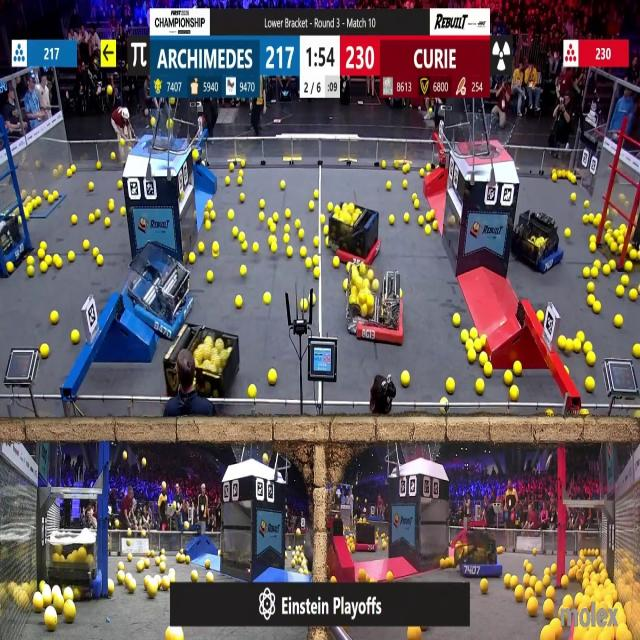ball_airborne: (107, 87, 113, 97), (266, 452, 272, 462), (192, 150, 198, 160), (162, 482, 168, 491), (142, 458, 148, 466), (150, 116, 155, 125), (170, 119, 173, 127), (119, 140, 123, 146)
ball_ground: (44, 612, 56, 632), (65, 602, 76, 622), (526, 599, 538, 616), (31, 592, 42, 610), (543, 601, 553, 619), (446, 378, 456, 394), (409, 627, 422, 639), (514, 360, 523, 376), (167, 628, 180, 639), (586, 378, 596, 392), (147, 585, 157, 599), (400, 372, 409, 387), (40, 344, 49, 358), (71, 331, 80, 345), (587, 352, 596, 366), (516, 587, 524, 602), (572, 341, 582, 353), (64, 589, 74, 601), (128, 580, 137, 593), (511, 386, 519, 400), (248, 384, 256, 398), (504, 372, 512, 386), (270, 371, 278, 385), (478, 380, 486, 394), (49, 312, 58, 324), (510, 574, 519, 586), (563, 596, 572, 608), (484, 363, 492, 376), (534, 584, 542, 597), (482, 580, 489, 594), (633, 344, 640, 358), (236, 295, 244, 307), (616, 315, 624, 327), (545, 588, 553, 600), (467, 351, 475, 363), (55, 256, 63, 268), (558, 338, 566, 350), (358, 569, 366, 581), (164, 580, 172, 592), (566, 340, 574, 352), (73, 589, 81, 601), (454, 314, 461, 327), (206, 571, 214, 582), (588, 282, 596, 293), (68, 251, 76, 262), (630, 289, 638, 300), (190, 570, 198, 581), (585, 342, 593, 353), (602, 266, 610, 277), (618, 285, 625, 297), (240, 266, 247, 278), (108, 582, 115, 594), (584, 268, 591, 280), (474, 340, 481, 352), (504, 574, 511, 586), (588, 294, 596, 304), (386, 570, 394, 580), (594, 214, 602, 224), (466, 341, 474, 351), (116, 572, 124, 582), (265, 292, 272, 303), (594, 303, 601, 314), (480, 352, 487, 363), (28, 267, 35, 278), (40, 263, 47, 274), (188, 252, 195, 263), (524, 574, 531, 585), (212, 242, 219, 253), (38, 249, 45, 260), (461, 329, 468, 340), (562, 575, 568, 587), (335, 256, 341, 268), (82, 241, 89, 251), (469, 328, 476, 338), (286, 247, 293, 257), (626, 263, 633, 273), (28, 255, 35, 265), (388, 214, 395, 224), (233, 229, 240, 239), (576, 330, 583, 340), (526, 588, 533, 598), (299, 247, 305, 258), (207, 272, 213, 283), (424, 223, 430, 234), (210, 211, 216, 222), (108, 201, 114, 212), (441, 558, 447, 569), (610, 242, 616, 253), (593, 259, 601, 267), (622, 276, 629, 285), (564, 230, 571, 239), (93, 247, 100, 256), (284, 209, 291, 218), (298, 230, 304, 240), (592, 269, 598, 279), (403, 213, 409, 223), (98, 255, 104, 265), (419, 215, 425, 225), (537, 312, 543, 322), (242, 242, 248, 252), (199, 243, 205, 253), (314, 269, 320, 279), (227, 210, 233, 220), (272, 243, 278, 253), (6, 264, 12, 274), (239, 232, 245, 242), (307, 258, 313, 268), (252, 243, 258, 253), (138, 562, 144, 572), (45, 254, 51, 264), (610, 262, 616, 272), (582, 215, 588, 225), (543, 574, 549, 584), (426, 212, 432, 222), (631, 250, 637, 260), (524, 561, 530, 571), (579, 410, 586, 418), (304, 301, 309, 312), (482, 336, 487, 347), (259, 200, 265, 209), (90, 214, 96, 223), (313, 256, 319, 265), (258, 212, 264, 221), (314, 189, 320, 198), (314, 238, 320, 247), (270, 223, 276, 232), (273, 213, 279, 222), (309, 202, 315, 211), (414, 201, 420, 210), (96, 210, 102, 219), (161, 563, 167, 572), (205, 220, 211, 229), (205, 560, 211, 569), (552, 564, 558, 573), (604, 235, 610, 244), (269, 217, 275, 226), (284, 235, 289, 245), (105, 217, 110, 227), (327, 203, 332, 213), (619, 237, 626, 244), (330, 575, 336, 583), (386, 181, 392, 189), (240, 192, 246, 200), (284, 223, 290, 231), (420, 170, 426, 178), (280, 181, 286, 189), (40, 242, 46, 250), (590, 244, 596, 252), (67, 170, 73, 178), (402, 166, 408, 174), (117, 562, 123, 570), (237, 177, 243, 185), (346, 265, 352, 273), (393, 162, 399, 170), (381, 162, 387, 170), (543, 567, 549, 575), (382, 540, 388, 548), (621, 224, 627, 232), (72, 215, 77, 224), (324, 238, 329, 247), (224, 177, 229, 186), (208, 201, 213, 210), (432, 221, 437, 230), (570, 175, 575, 184), (228, 162, 233, 171), (177, 555, 182, 564), (171, 574, 176, 583), (110, 152, 116, 159), (270, 237, 276, 244), (546, 411, 552, 418), (324, 224, 328, 234), (571, 192, 576, 200), (90, 182, 95, 190), (402, 180, 407, 188), (344, 280, 348, 290), (97, 163, 102, 171), (320, 215, 325, 223), (120, 182, 124, 192), (591, 236, 596, 244), (241, 162, 246, 170), (145, 560, 150, 568), (185, 556, 190, 564), (305, 568, 310, 576), (532, 546, 537, 554), (71, 166, 76, 174), (368, 576, 374, 582), (295, 219, 299, 228), (636, 412, 640, 421), (553, 175, 558, 182), (413, 192, 418, 199), (442, 397, 447, 404), (155, 559, 160, 566), (312, 295, 316, 303), (291, 560, 295, 568), (120, 208, 124, 215), (586, 201, 590, 208), (129, 555, 133, 562), (535, 550, 539, 557), (240, 170, 244, 177), (426, 166, 430, 173), (442, 410, 446, 416), (218, 551, 221, 557)
goal: (460, 117, 518, 158), (129, 116, 186, 152)
robot_blue: (123, 253, 193, 342), (50, 542, 104, 602), (514, 213, 562, 274), (453, 527, 501, 578), (0, 209, 30, 272)
robot_red: (189, 326, 240, 412), (348, 271, 403, 343), (328, 202, 379, 262), (352, 518, 378, 552)
